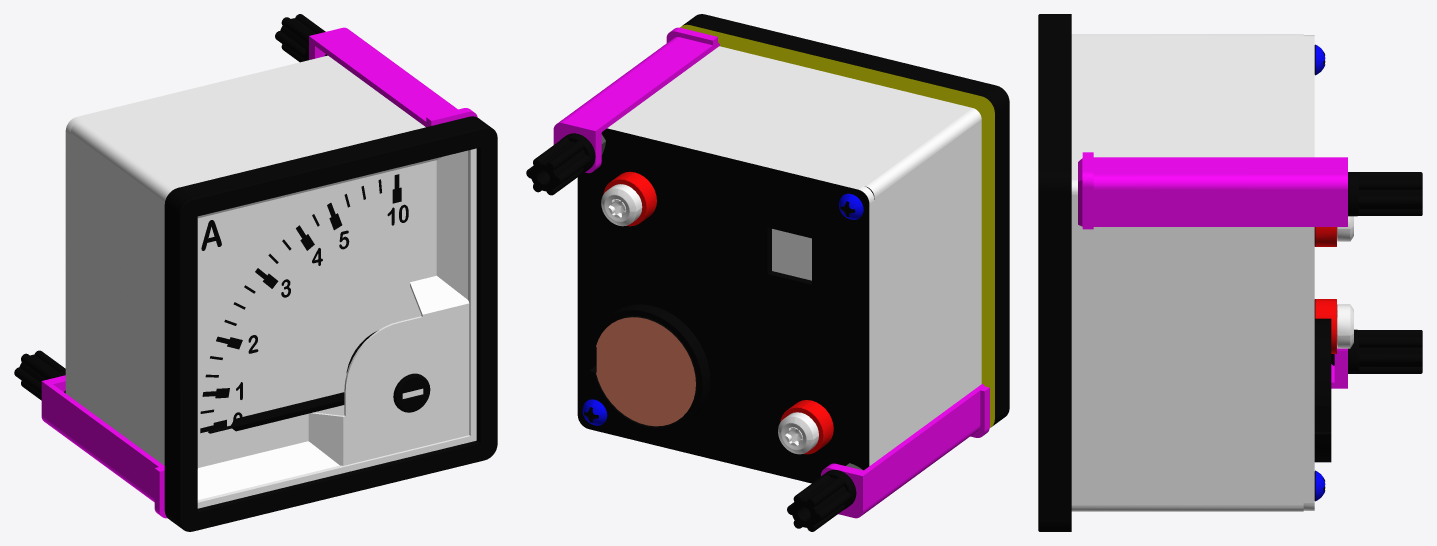
File: Ammeter.glb
The picture shows the model from 3 angles, left to right: view 1: azimuth 30°, elevation 25°; view 2: azimuth 150°, elevation 25°; view 3: azimuth 270°, elevation 25°; orthographic projection. The views are drawn at different scales.
Parts seen in each view (by area): view 1: Housing, Spacer.2, Spacer.1, Screw.2, Screw.1; view 2: Housing, Spacer.2, Spacer.1, Screw.1, Screw.2; view 3: Housing, Spacer.1, Screw.1, Screw.2, Spacer.2.
Part boxes in pixels (left/top/right/bottom): Housing: left=65, top=55, right=497, bottom=531; Spacer.2: left=41, top=375, right=167, bottom=518; Spacer.1: left=309, top=27, right=477, bottom=127; Screw.2: left=14, top=350, right=65, bottom=400; Screw.1: left=275, top=14, right=327, bottom=62; Housing: left=577, top=14, right=1009, bottom=483; Spacer.2: left=821, top=384, right=989, bottom=518; Spacer.1: left=553, top=27, right=719, bottom=173; Screw.1: left=526, top=133, right=595, bottom=195; Screw.2: left=787, top=470, right=856, bottom=531; Housing: left=1038, top=14, right=1353, bottom=531; Spacer.1: left=1078, top=152, right=1347, bottom=229; Screw.1: left=1348, top=172, right=1422, bottom=216; Screw.2: left=1331, top=329, right=1422, bottom=373; Spacer.2: left=1331, top=348, right=1347, bottom=388.
Bounding box in the file's own units: 72 × 72 × 69.5.
